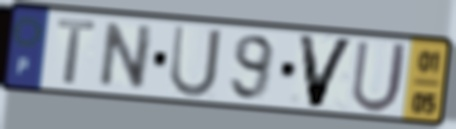9: (228, 32, 277, 102)
N: (95, 20, 157, 91)
T: (55, 18, 99, 88)
U: (349, 38, 411, 115), (167, 22, 225, 100)
V: (295, 31, 358, 110)
